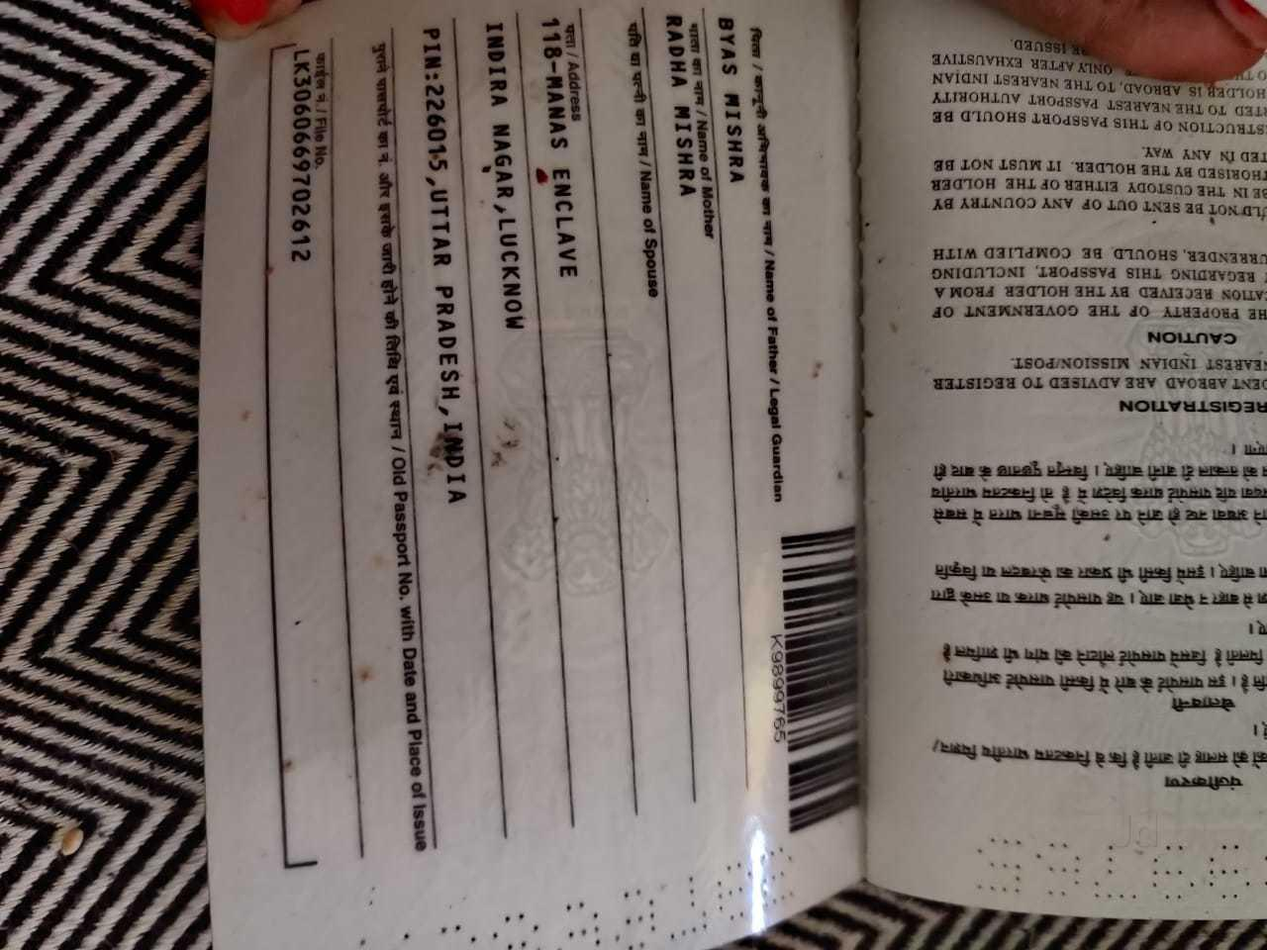File_no: (284, 44, 317, 281)
address: (399, 4, 605, 519)
father_name: (707, 6, 762, 202)
mother_name: (651, 12, 714, 208)
passport_no: (759, 625, 798, 751)
